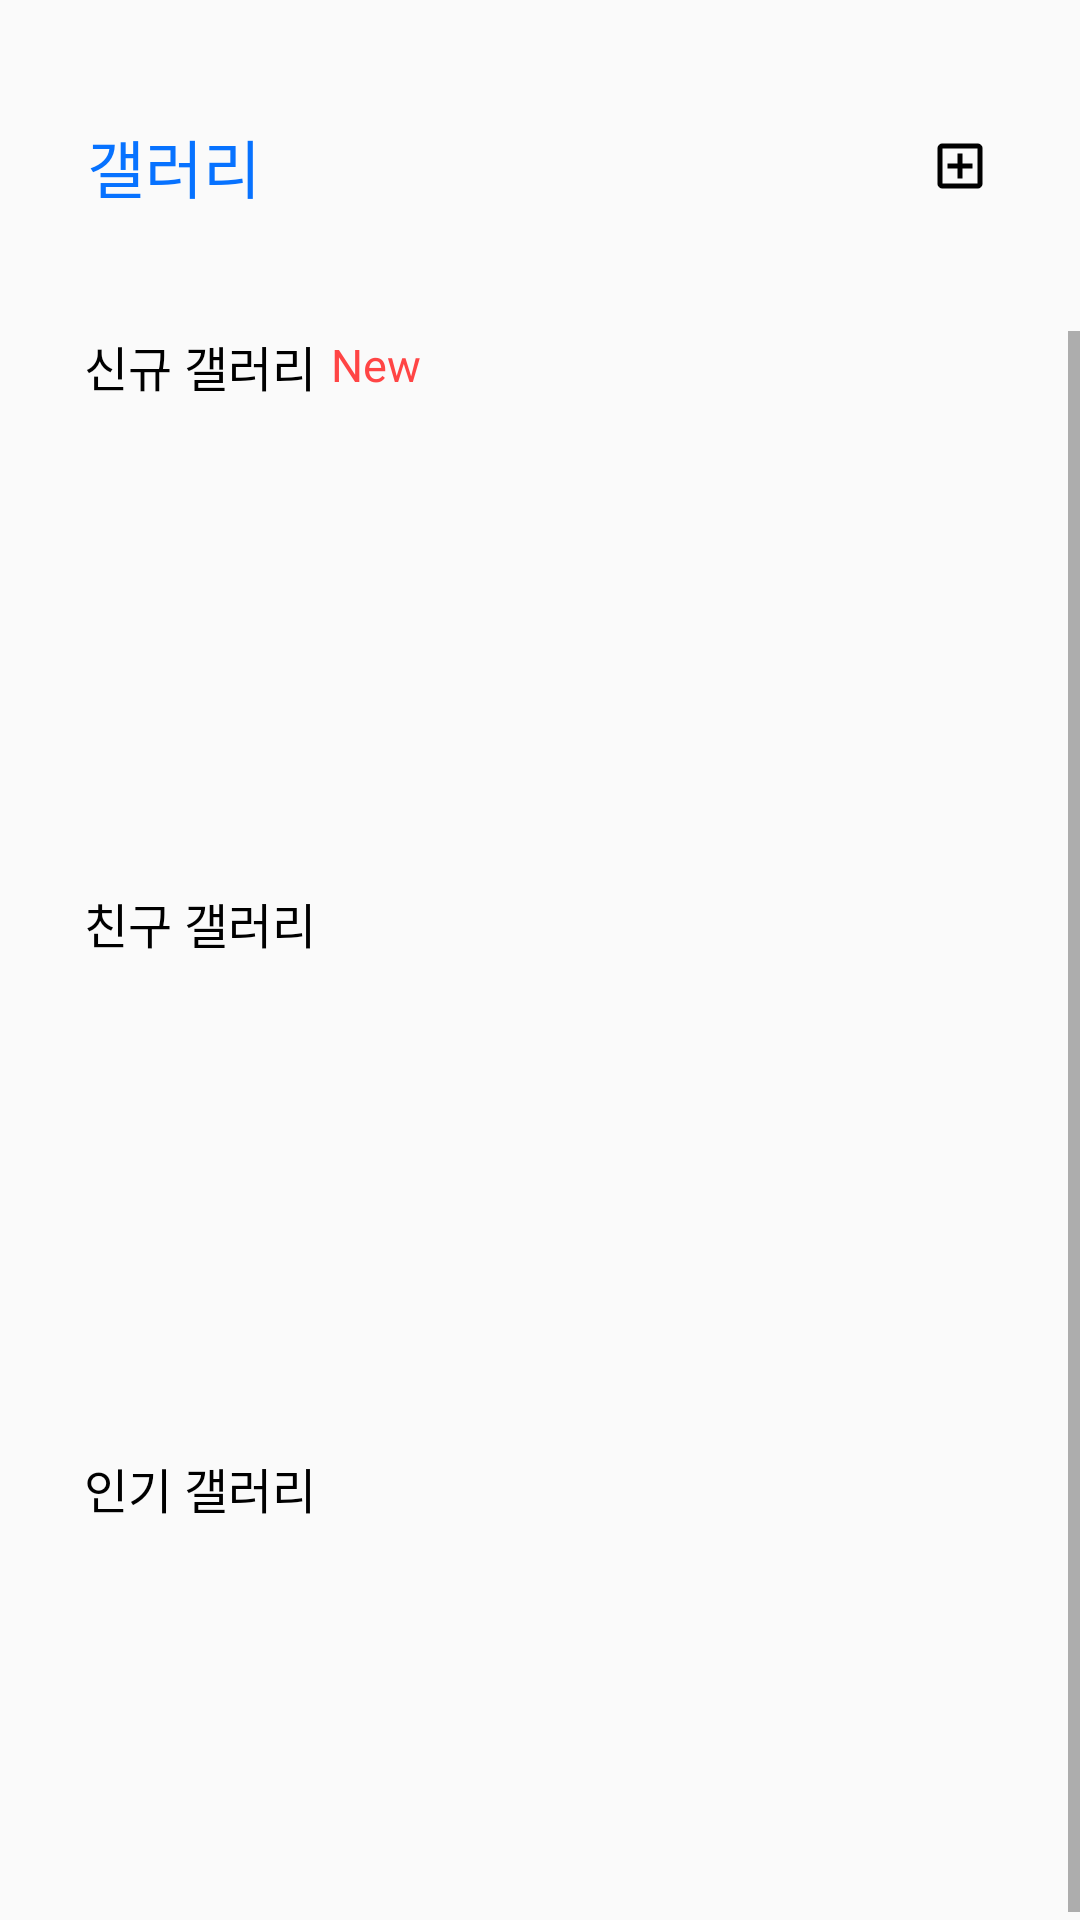

Where to tap for icons on this 1080w x 1920h app screen, as [x,y]:
gallery add: [960,166]
